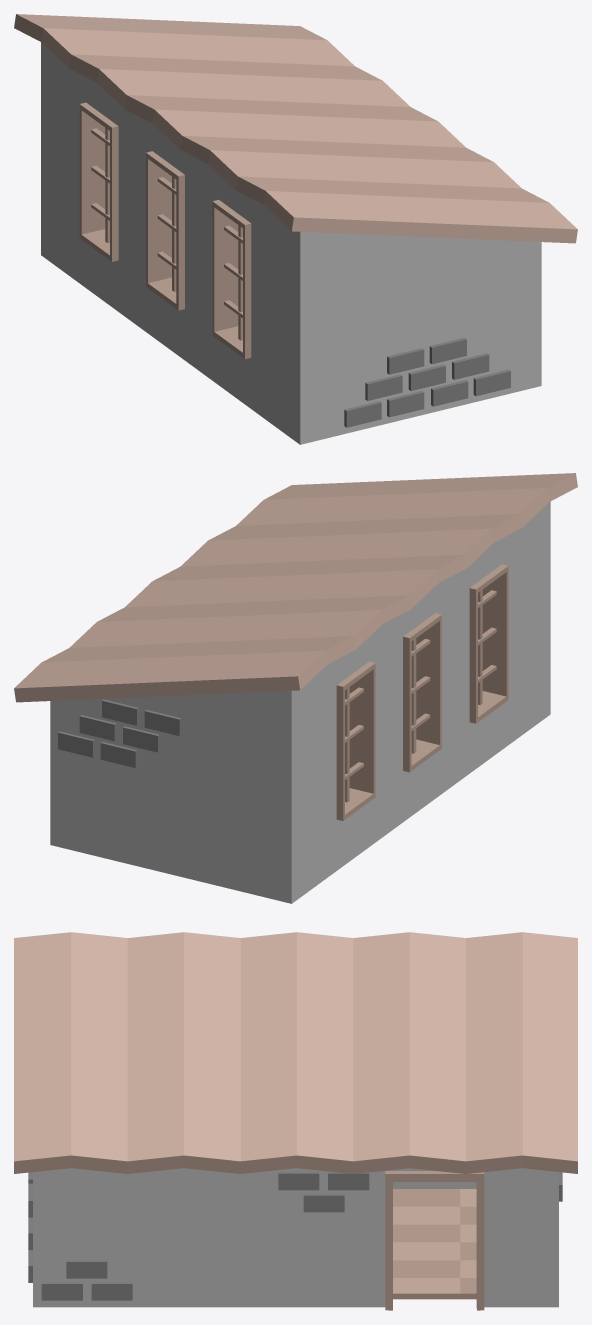
File: StoneCabin.fbx
3 views of the same model, one above another, from view 1: azimuth 30°, elevation 25°; view 2: azimuth 150°, elevation 25°; view 3: azimuth 270°, elevation 25° (orthographic).
Visible parts, largest first — view 1: CabinMain, CabinWood, CabinWindow3, CabinWindow2, CabinWindow1; view 2: CabinMain, CabinWood, CabinWindow3, CabinWindow1, CabinWindow2; view 3: CabinWood, CabinMain.
Boxes of the visible parts, left/top/right/bottom form: CabinMain: left=41, top=42, right=541, bottom=444; CabinWood: left=14, top=14, right=577, bottom=243; CabinWindow3: left=157, top=176, right=176, bottom=291; CabinWindow2: left=224, top=225, right=242, bottom=340; CabinWindow1: left=91, top=128, right=109, bottom=243; CabinMain: left=50, top=501, right=550, bottom=903; CabinWood: left=14, top=473, right=577, bottom=702; CabinWindow3: left=411, top=638, right=430, bottom=753; CabinWindow1: left=345, top=687, right=363, bottom=802; CabinWindow2: left=478, top=590, right=496, bottom=704; CabinWood: left=14, top=932, right=577, bottom=1293; CabinMain: left=28, top=1168, right=562, bottom=1310.
Size of the model in its own units: 8.37 by 4.98 by 4.06.
